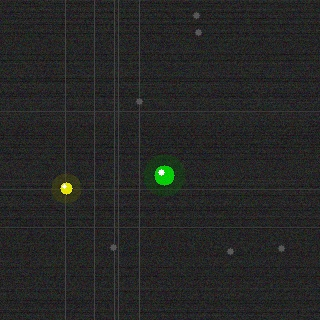green_normal: (152, 163, 176, 187)
yellow_warning: (58, 180, 74, 196)
